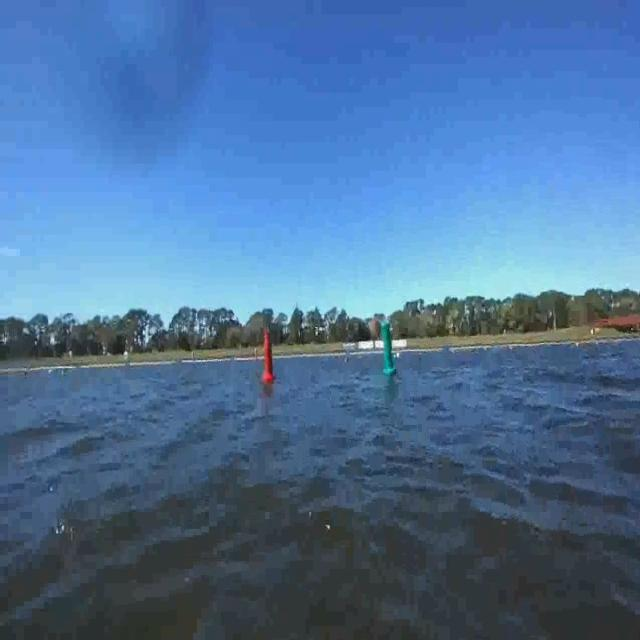green-column-buoy: (381, 321, 398, 376)
red-column-buoy: (263, 326, 277, 381)
